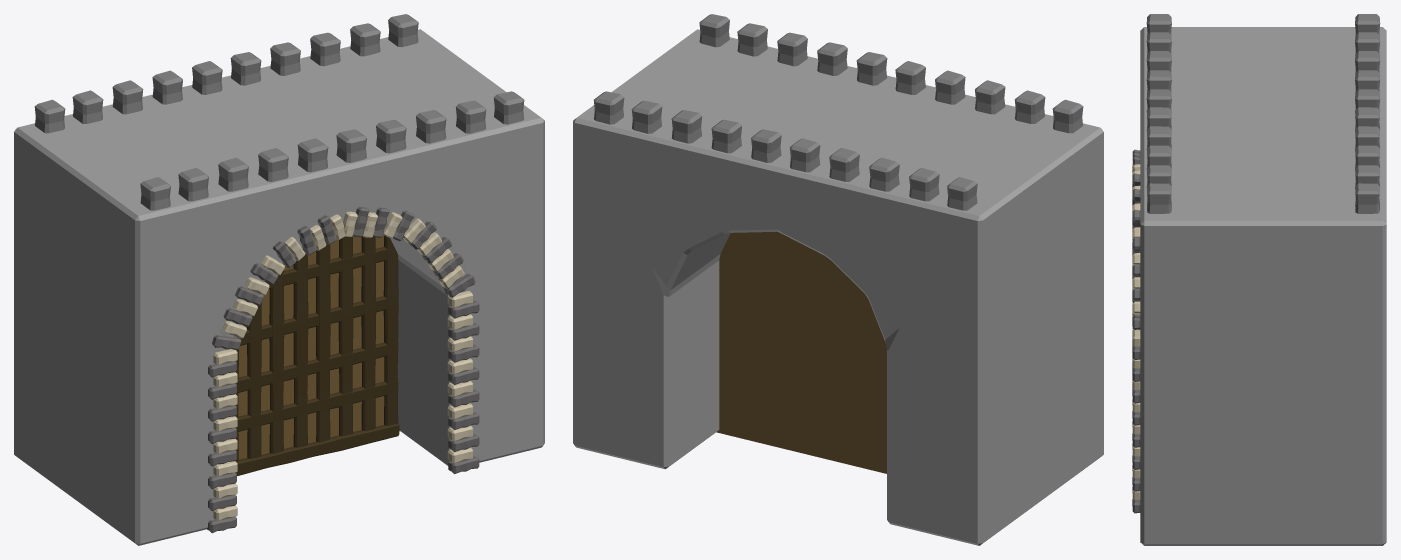
Rendered from gate.fbx.
3 views of the same model, side by side, from view 1: azimuth 30°, elevation 25°; view 2: azimuth 150°, elevation 25°; view 3: azimuth 270°, elevation 25° (orthographic).
Parts seen in each view (by area): view 1: gate; view 2: gate; view 3: gate.
Boxes of the visible parts, x1,y1,x2,y2 form: gate: [14, 14, 544, 545]; gate: [573, 14, 1103, 545]; gate: [1132, 14, 1386, 545].
Bounding box in the file's own units: 525 × 435 × 286.
